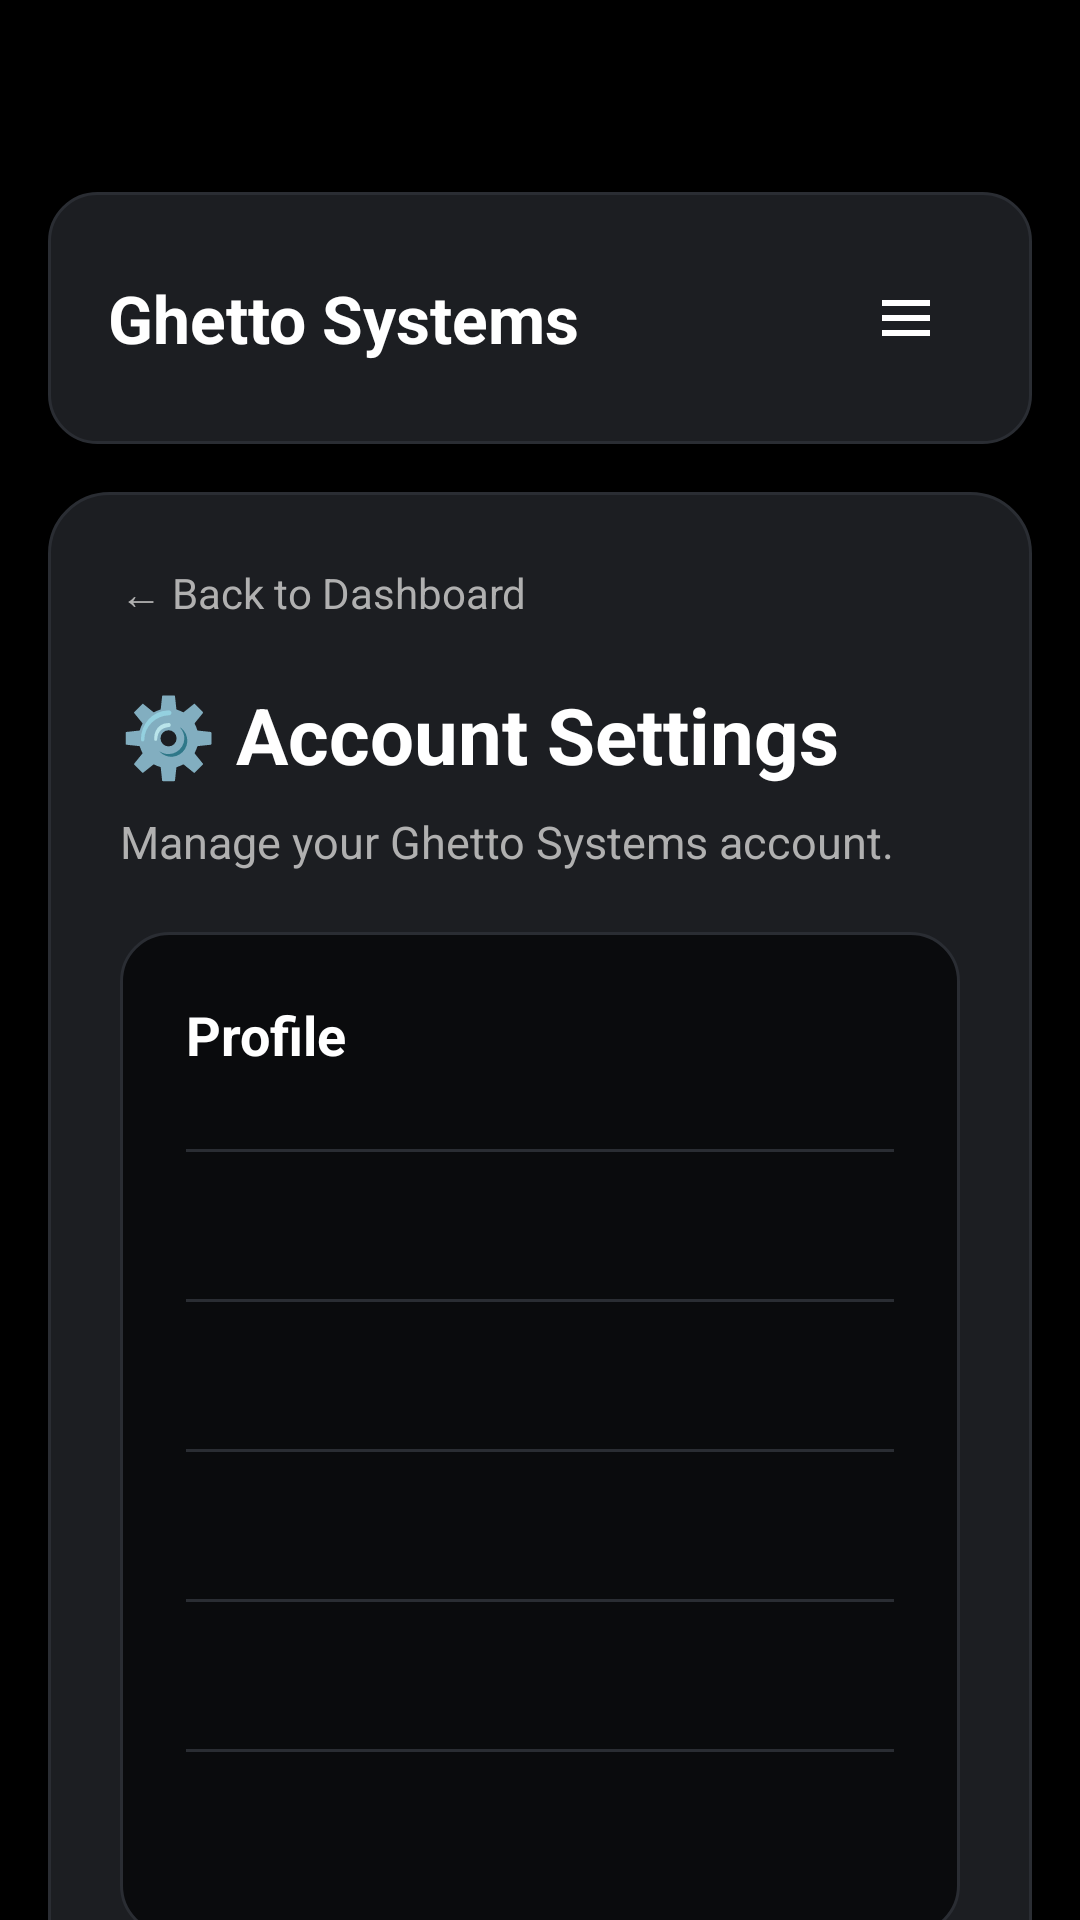

Named icons in this screenshot (1080px x 1920px) and their bounding boxes, (x1, y1, x2, y2):
Menu: (882, 300, 930, 336)
